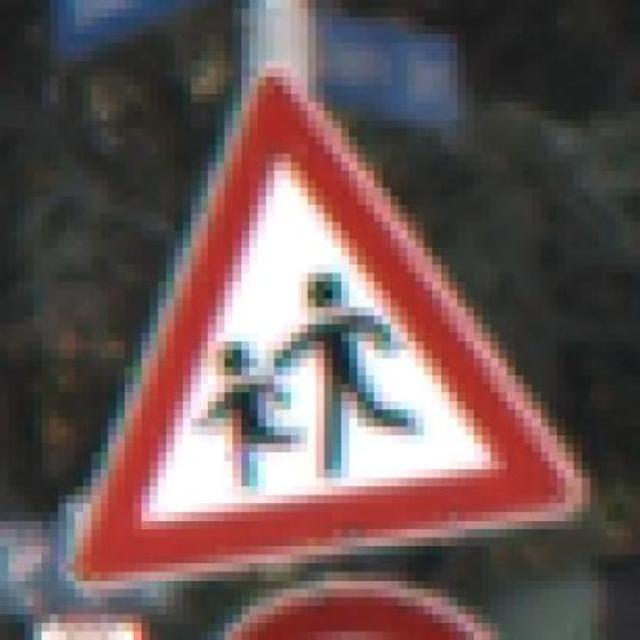Beware of children: (59, 68, 598, 581)
